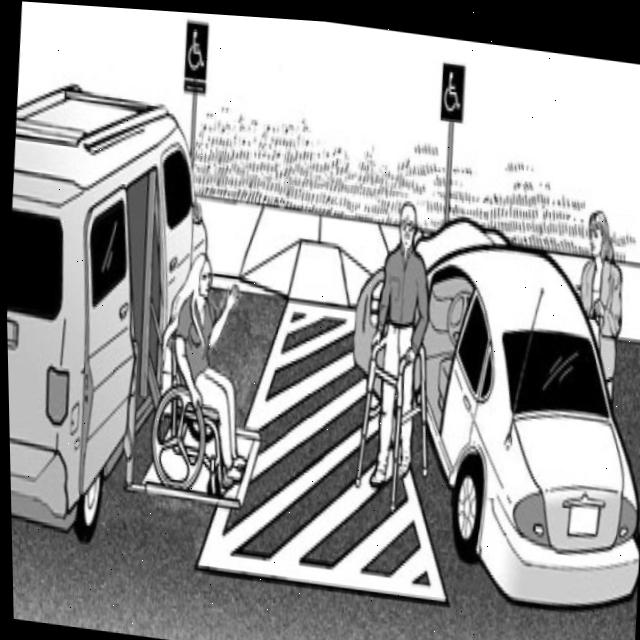symbol_of_access: (185, 24, 208, 76), (441, 65, 467, 109)
